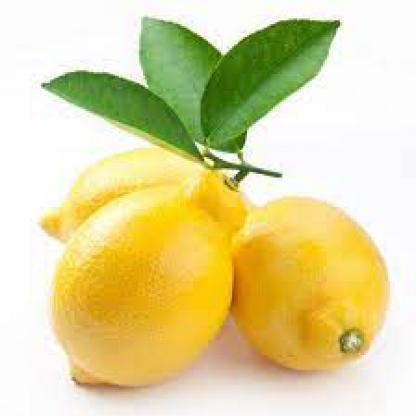lemon: (52, 188, 234, 387), (230, 194, 390, 370), (38, 148, 249, 246)
